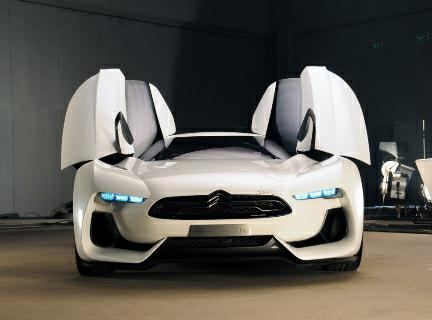雪铁龙-GT: (67, 132, 371, 280)
